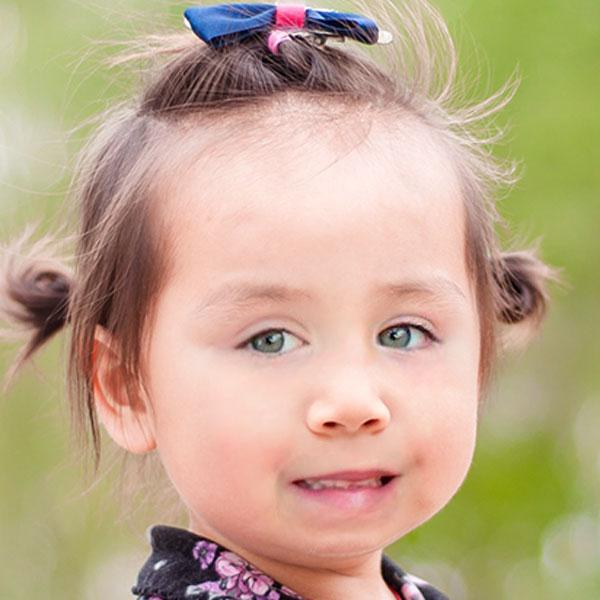Eyes: (220, 311, 317, 371), (364, 305, 445, 364)
